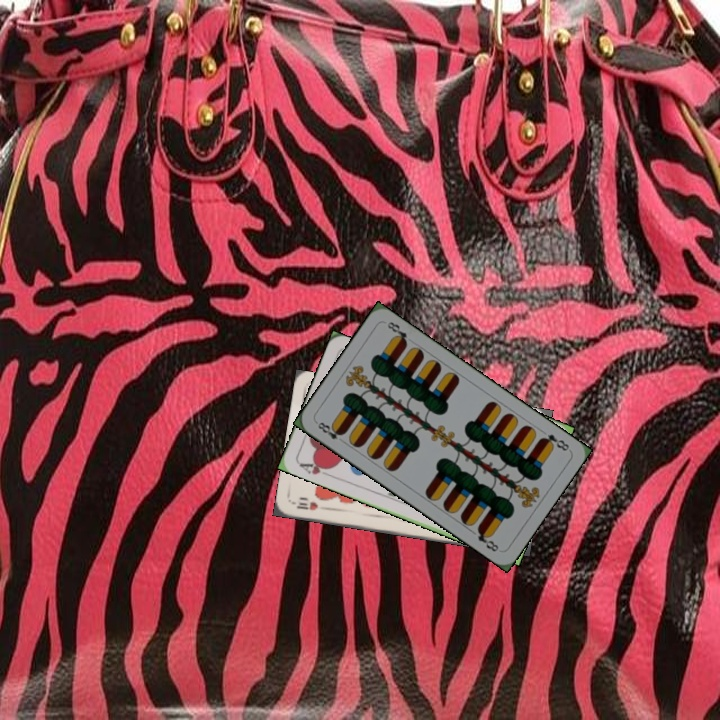E8: (536, 430, 572, 454), (312, 418, 347, 442)
H10: (293, 498, 320, 513)
HA: (295, 456, 335, 480)
